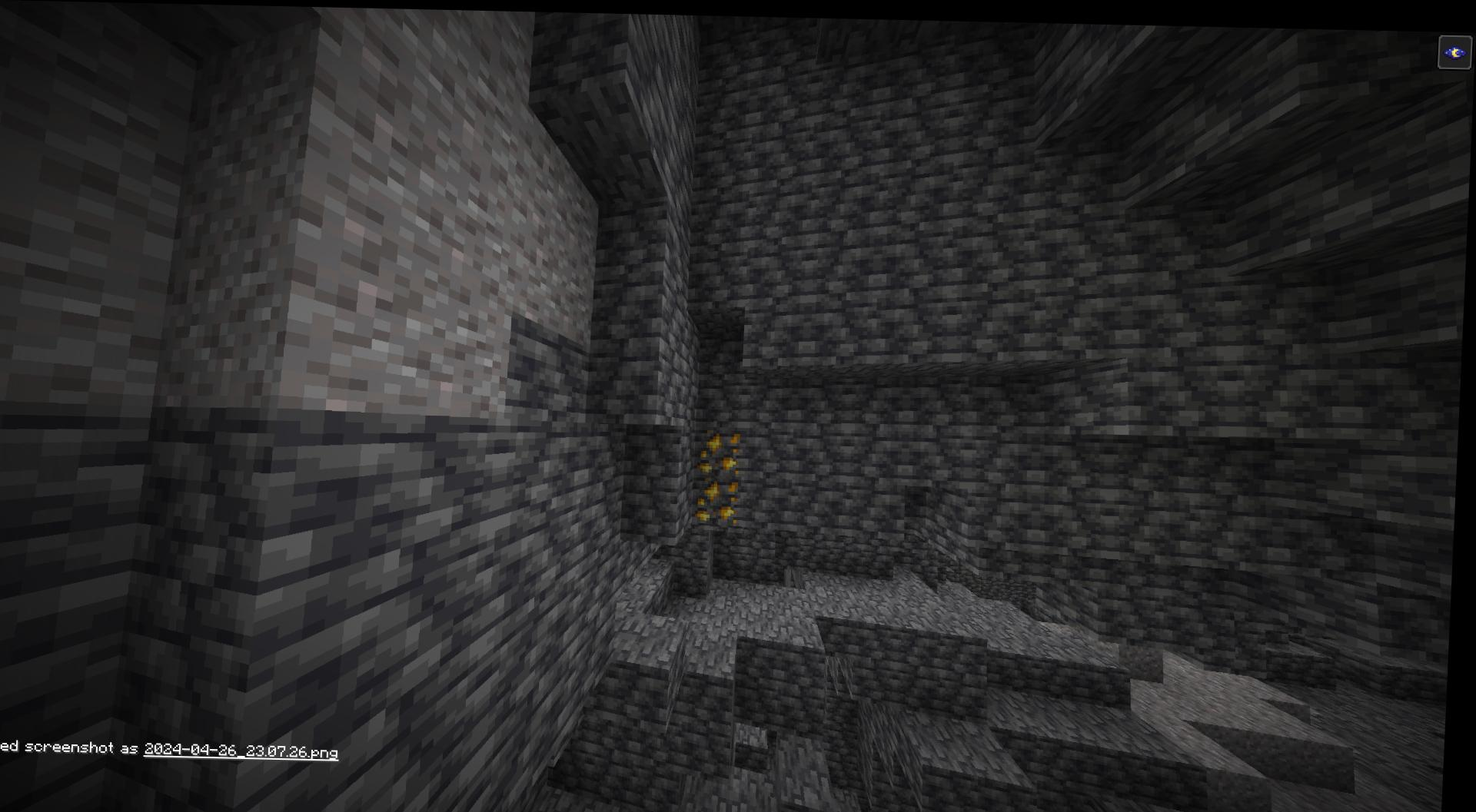gold ore: (697, 425, 744, 473), (703, 477, 748, 524)
